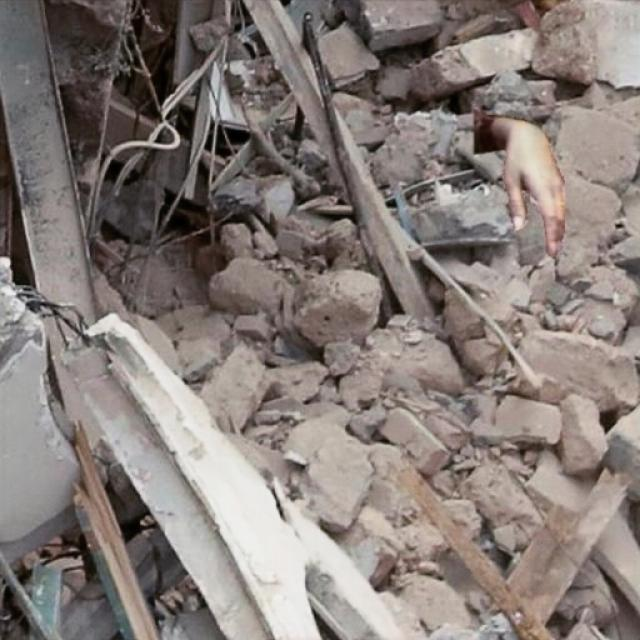Person in Rubble: (474, 108, 564, 258)
